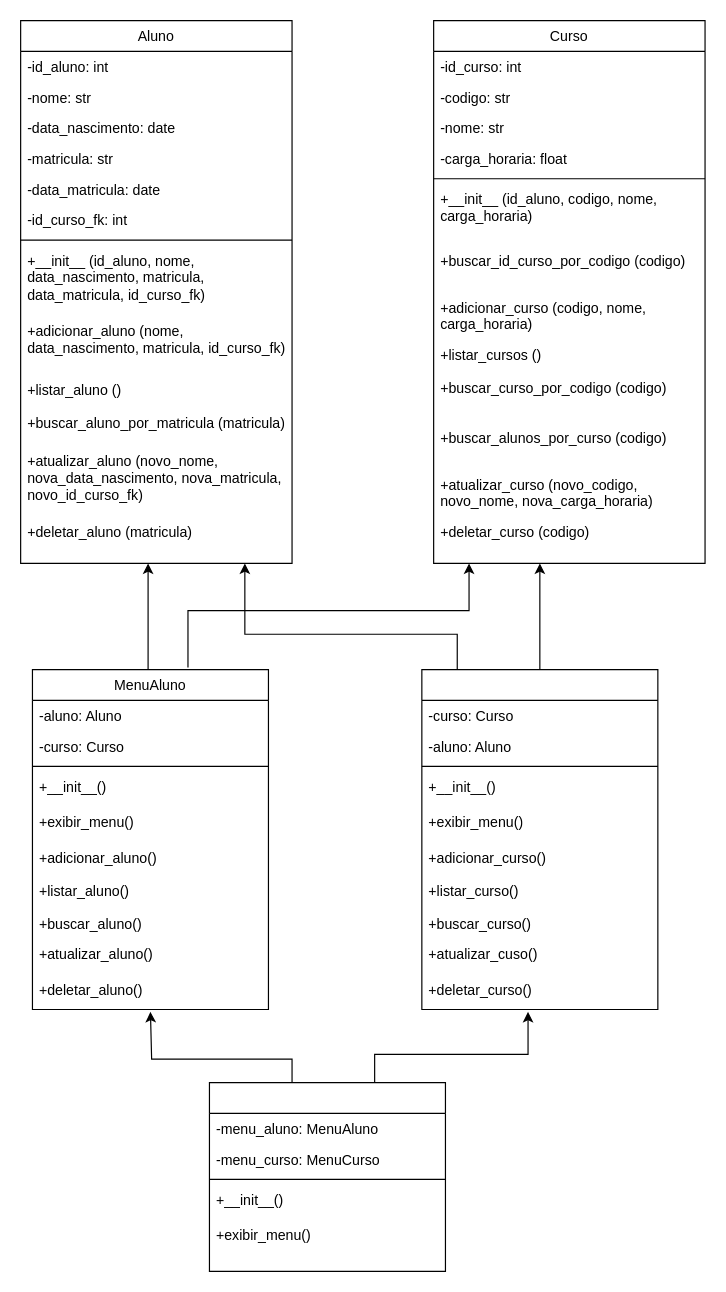
The diagram is 726 pixels wide and 1292 high, and some of its shapes have lost their labels. The box of each missing label's shape, as (x1, y1, x2, y2) in pixels:
MenuCurso: (421, 668, 658, 1009)
MenuPrincipal: (208, 1081, 445, 1271)
